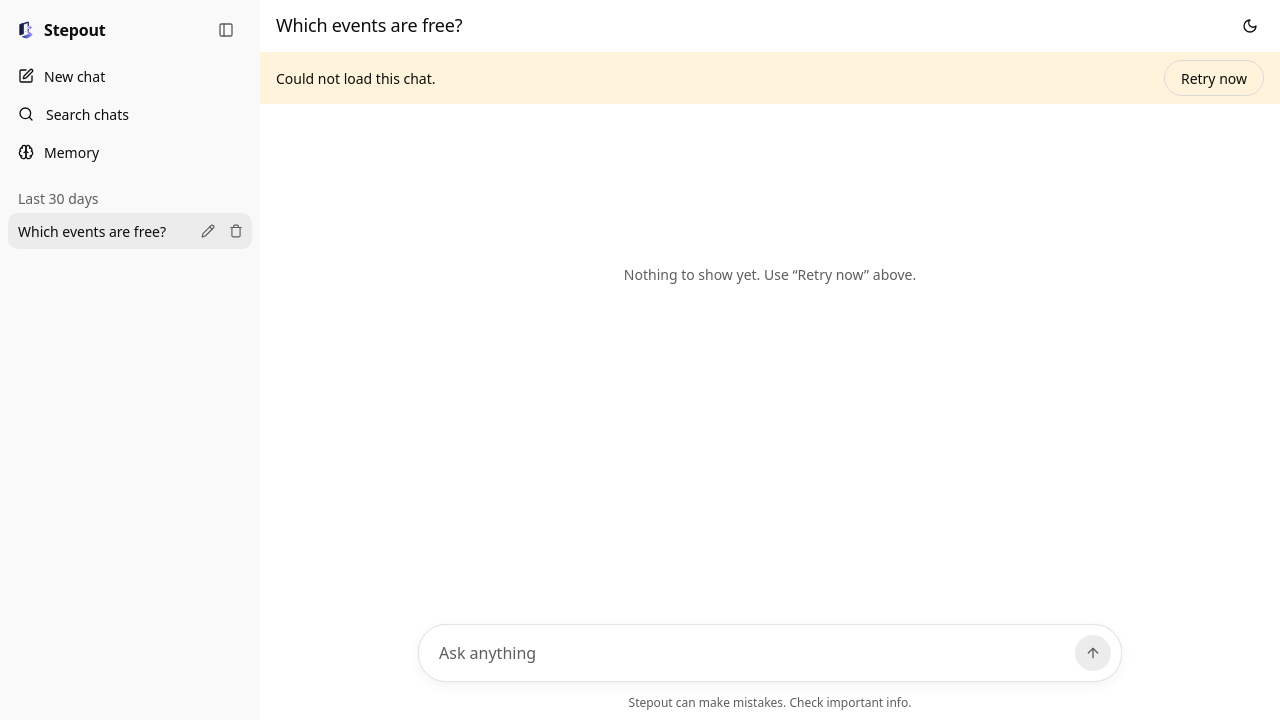
when something fails › the open chat: says so, and Retry now reads that chat again (not only the list)
Expected: the text "Nothing to show yet. Use “Retry now” above." is shown, 624,265 -> 916,284
Expected: the message shows "Could not load this chat", 276,68 -> 436,88
Click the button "Retry now".
click(1214, 78)  # box 1164,60 -> 1264,96
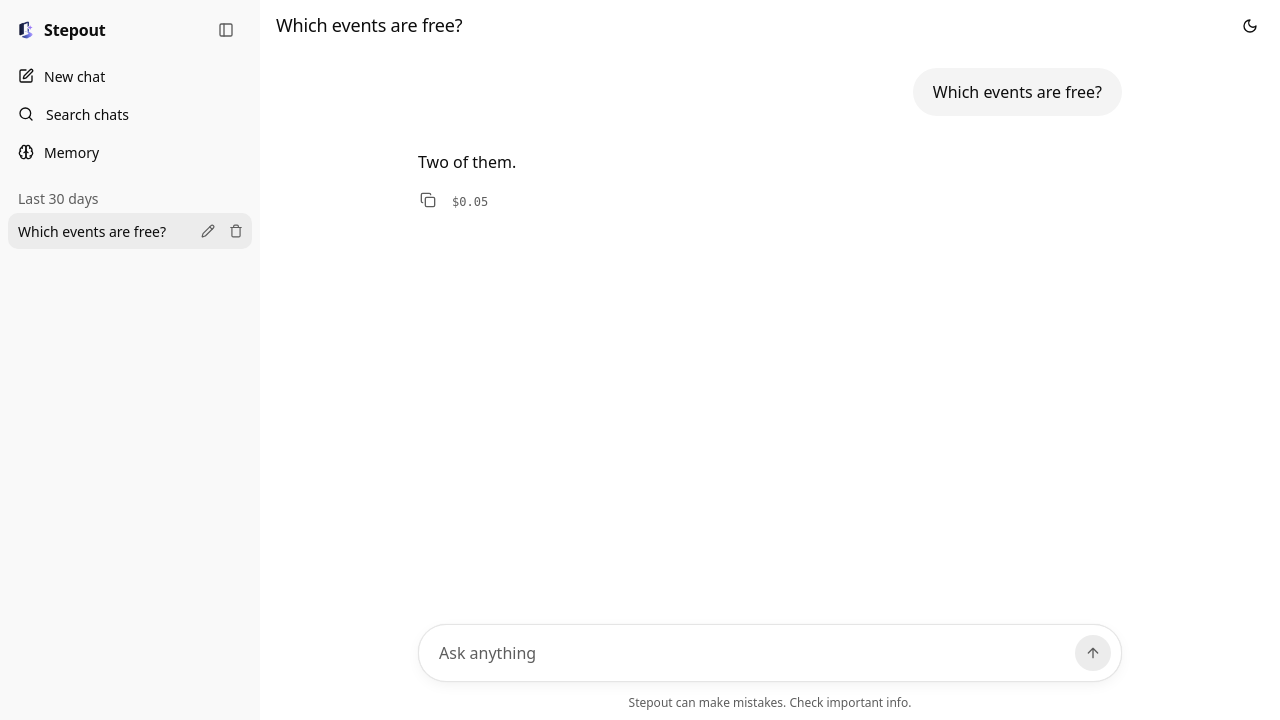
Expected: the text "Two of them." is shown, 418,151 -> 516,173
Expected: the text "Nothing to show yet" is gone
